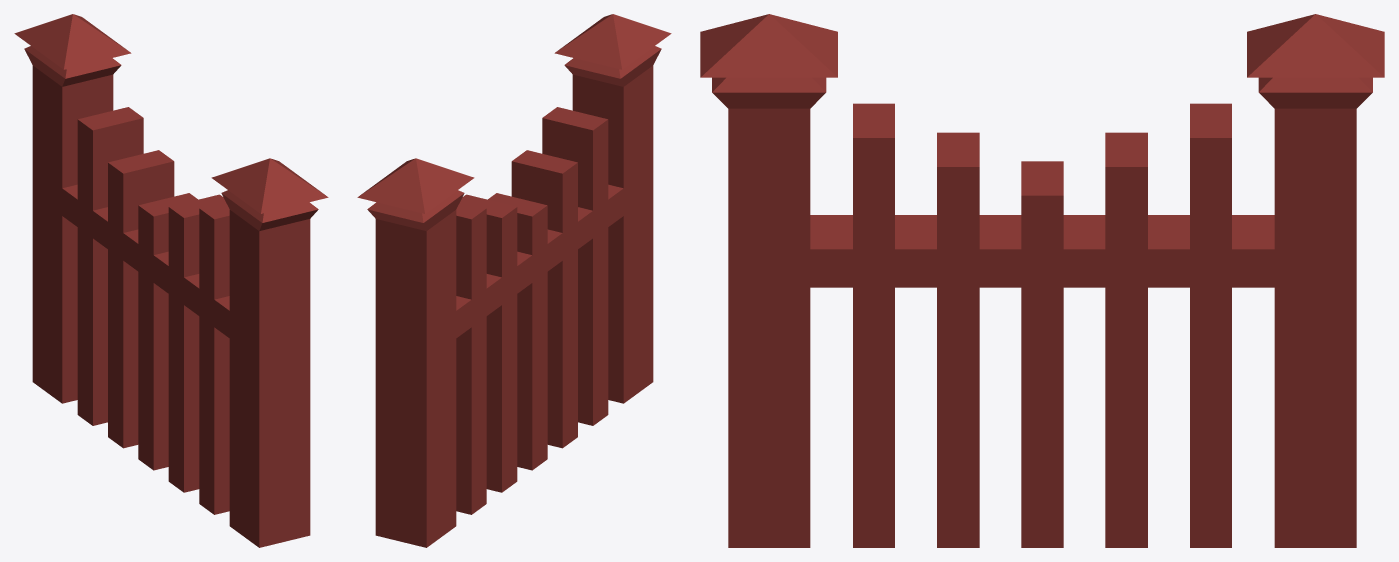
File: Fence City 1.fbx
3 views of the same model, side by side, from view 1: azimuth 30°, elevation 25°; view 2: azimuth 150°, elevation 25°; view 3: azimuth 270°, elevation 25° (orthographic). The views are drawn at different scales.
Visible parts, largest first — view 1: Cube; view 2: Cube; view 3: Cube.
Part boxes in pixels (x1=…): Cube: x1=14, y1=14, x2=328, y2=547; Cube: x1=357, y1=14, x2=671, y2=547; Cube: x1=700, y1=14, x2=1384, y2=547.
Size of the model in its own units: 20.56 by 108 by 129.
